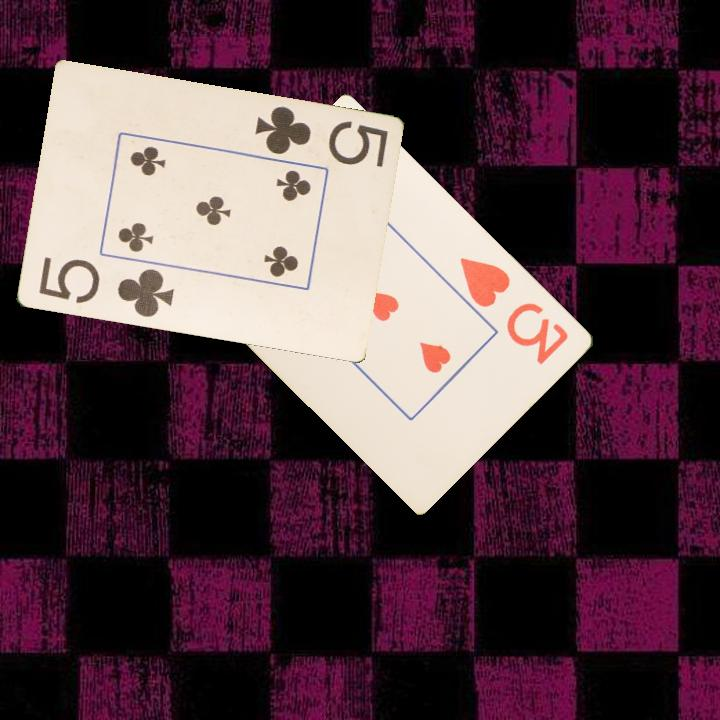3h: (457, 253, 572, 368)
5c: (35, 254, 177, 321), (251, 103, 390, 171)
